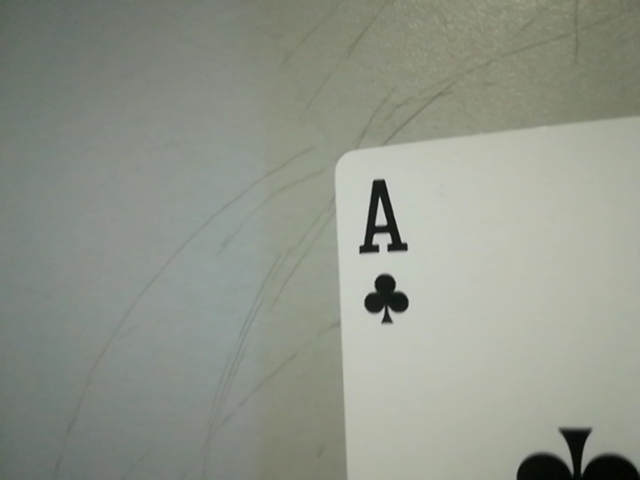mh a: (348, 164, 425, 336)
